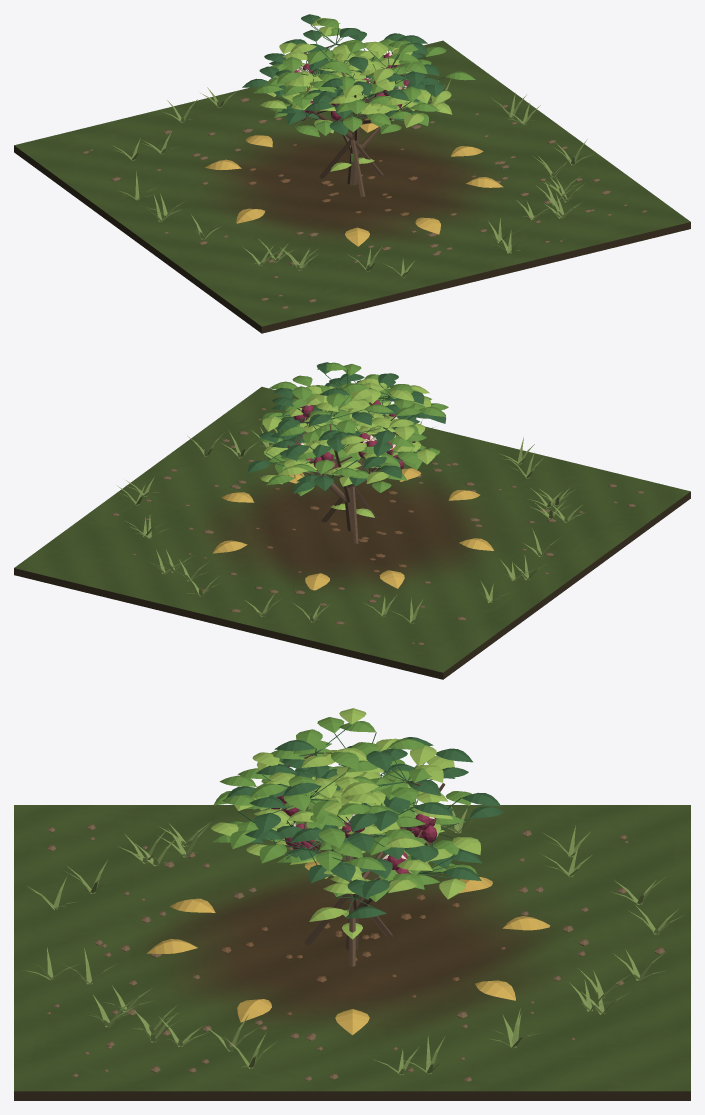
Rendered from berry-shrub-v4.glb.
3 views of the same model, one above another, from view 1: azimuth 30°, elevation 25°; view 2: azimuth 150°, elevation 25°; view 3: azimuth 270°, elevation 25° (orthographic). The views are drawn at different scales.
Parts seen in each view (by area): view 1: Static_mesh, Foliage.007_mesh, Foliage.004_mesh, Foliage.005_mesh, Foliage.006_mesh, Foliage.002_mesh, Foliage.001_mesh, Trunk_mesh, Foliage.003_mesh; view 2: Static_mesh, Foliage.006_mesh, Foliage.003_mesh, Foliage.004_mesh, Foliage.005_mesh, Foliage.001_mesh, Foliage.007_mesh, Foliage_mesh, Trunk_mesh, Foliage.002_mesh; view 3: Static_mesh, Foliage.005_mesh, Foliage.003_mesh, Foliage.006_mesh, Foliage.007_mesh, Foliage_mesh, Foliage.002_mesh, Foliage.004_mesh, Foliage.001_mesh, Trunk_mesh.
Part boxes in pixels (bbox=[...]): Static_mesh: bbox=[14, 40, 690, 333]; Foliage.007_mesh: bbox=[289, 41, 427, 135]; Foliage.004_mesh: bbox=[259, 44, 381, 136]; Foliage.005_mesh: bbox=[335, 33, 475, 104]; Foliage.006_mesh: bbox=[253, 14, 386, 93]; Foliage.002_mesh: bbox=[329, 65, 439, 133]; Foliage.001_mesh: bbox=[242, 48, 343, 133]; Trunk_mesh: bbox=[319, 113, 383, 197]; Foliage.003_mesh: bbox=[303, 30, 427, 78]; Static_mesh: bbox=[14, 387, 690, 679]; Foliage.006_mesh: bbox=[278, 388, 418, 493]; Foliage.003_mesh: bbox=[247, 388, 369, 496]; Foliage.004_mesh: bbox=[337, 396, 446, 467]; Foliage.005_mesh: bbox=[261, 362, 387, 431]; Foliage.001_mesh: bbox=[303, 412, 426, 493]; Foliage.007_mesh: bbox=[342, 364, 448, 436]; Foliage_mesh: bbox=[258, 408, 358, 473]; Trunk_mesh: bbox=[321, 476, 377, 543]; Foliage.002_mesh: bbox=[283, 380, 430, 434]; Static_mesh: bbox=[14, 805, 690, 1100]; Foliage.005_mesh: bbox=[245, 760, 424, 874]; Foliage.003_mesh: bbox=[332, 776, 501, 899]; Foliage.006_mesh: bbox=[337, 738, 503, 868]; Foliage.007_mesh: bbox=[213, 708, 367, 831]; Foliage_mesh: bbox=[290, 796, 452, 921]; Foliage.002_mesh: bbox=[211, 752, 362, 878]; Foliage.004_mesh: bbox=[238, 717, 433, 799]; Foliage.001_mesh: bbox=[322, 763, 454, 837]; Trunk_mesh: bbox=[304, 857, 392, 966].
Bounding box in the file's own units: 3.5 × 1.23 × 3.5.
